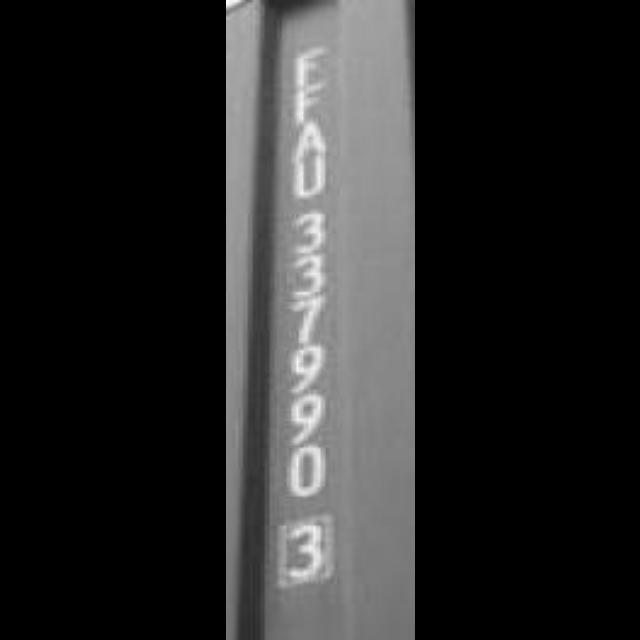0: (281, 443, 333, 502)
3: (282, 516, 331, 586), (290, 204, 334, 262), (291, 250, 325, 294)
7: (290, 297, 330, 345)
9: (284, 397, 332, 448), (289, 343, 331, 395)
a: (285, 119, 339, 168)
f: (278, 34, 336, 92), (288, 86, 334, 124)
u: (288, 158, 336, 208)
